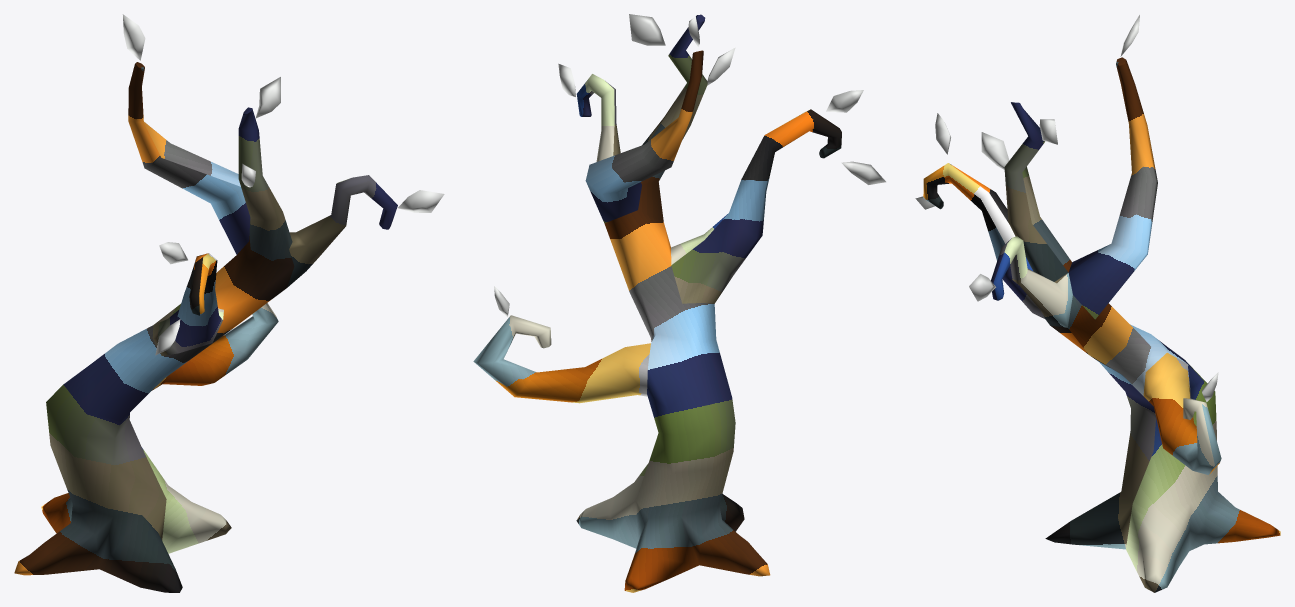
File: Prop_MischiefTree.glb
The picture shows the model from 3 angles, left to right: view 1: azimuth 30°, elevation 25°; view 2: azimuth 150°, elevation 25°; view 3: azimuth 270°, elevation 25°; orthographic projection. The views are drawn at different scales.
Parts seen in each view (by area): view 1: Prop_MischiefTree; view 2: Prop_MischiefTree; view 3: Prop_MischiefTree.
Boxes of the visible parts, left/top/right/bottom form: Prop_MischiefTree: left=14, top=14, right=444, bottom=592; Prop_MischiefTree: left=473, top=14, right=885, bottom=592; Prop_MischiefTree: left=915, top=15, right=1280, bottom=592.
Bounding box in the file's own units: 1.72 × 2.77 × 1.75.
Materials: 1 (1 with a texture image).
